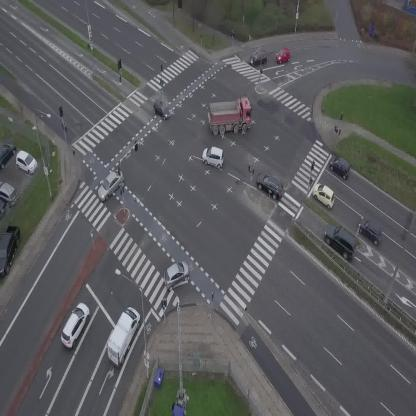car: (56, 300, 94, 351), (318, 220, 363, 262), (92, 167, 128, 203), (157, 257, 195, 291), (252, 169, 288, 202), (354, 214, 389, 247), (307, 180, 339, 210), (326, 153, 354, 179), (200, 144, 227, 169), (149, 99, 174, 121), (247, 50, 269, 67), (273, 47, 292, 65)
lorry: (100, 304, 145, 368), (206, 97, 254, 136)
